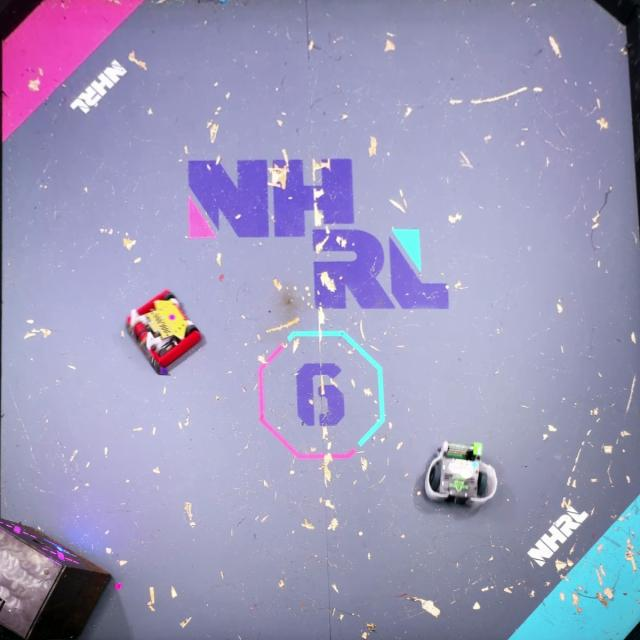housebot: (0, 516, 115, 640)
robot: (124, 286, 207, 376), (424, 438, 498, 511)
